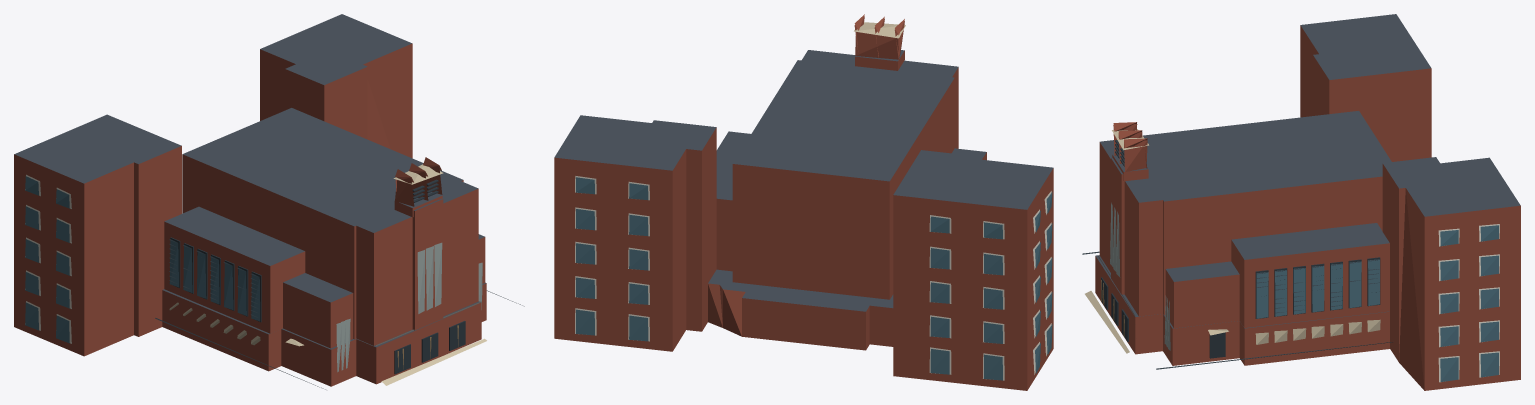
The model's file is jeruzalemkerk.lod1.glb.
3 renders of one model, left to right at view 1: azimuth 30°, elevation 25°; view 2: azimuth 150°, elevation 25°; view 3: azimuth 270°, elevation 25°, orthographic. The views are drawn at different scales.
Visible parts, largest first — view 1: jeruzalemkerk; view 2: jeruzalemkerk; view 3: jeruzalemkerk.
Part boxes in pixels (left/top/right/bottom): jeruzalemkerk: left=14, top=14, right=524, bottom=389; jeruzalemkerk: left=554, top=14, right=1053, bottom=390; jeruzalemkerk: left=1082, top=14, right=1520, bottom=390.
Bounding box in the file's own units: 40.83 × 17.98 × 37.33.
